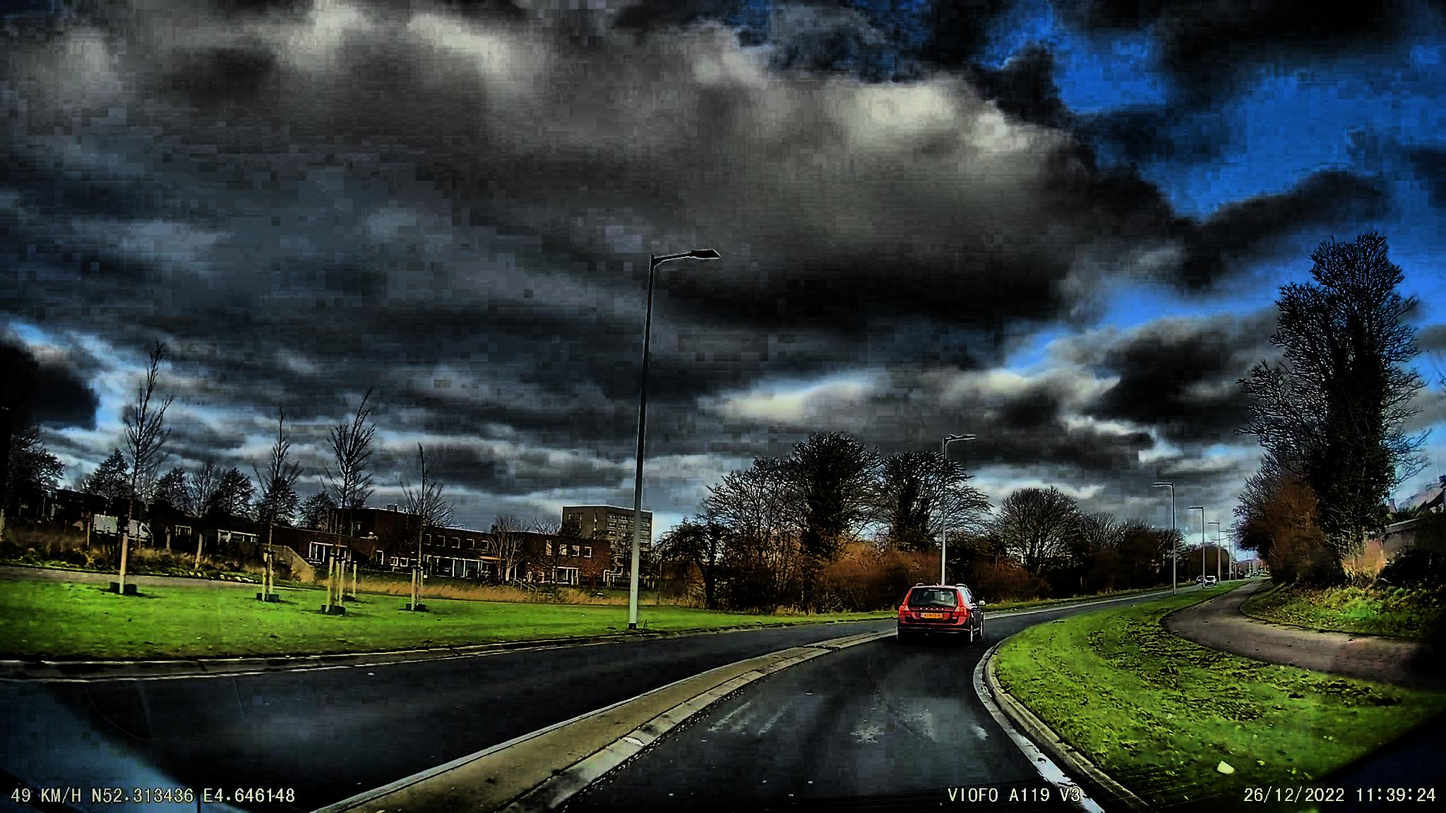Roads: (103, 623, 1117, 813)
